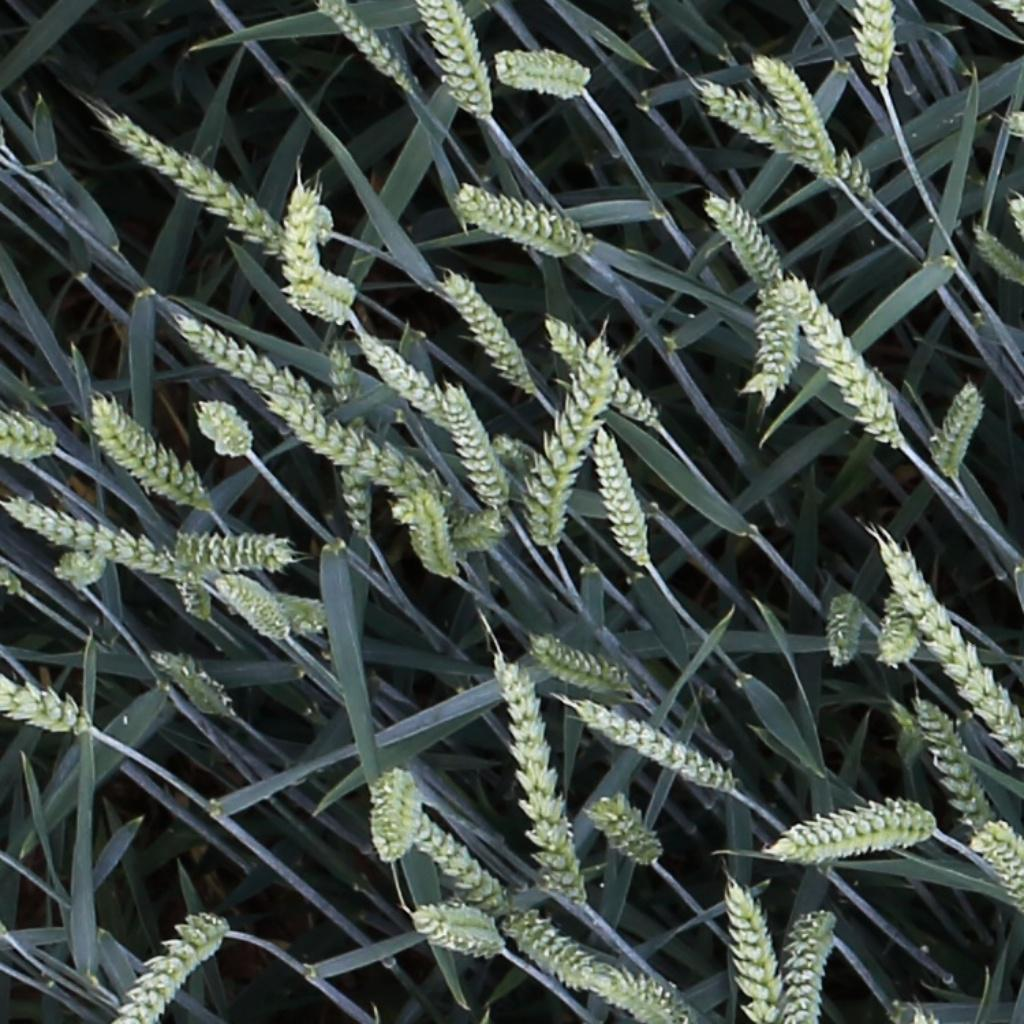0-0: (878, 526, 1024, 782), (99, 116, 293, 256), (268, 390, 450, 536), (491, 648, 591, 904), (690, 79, 881, 201), (779, 277, 902, 449), (520, 333, 614, 549), (6, 502, 196, 584), (174, 317, 334, 413), (576, 704, 733, 791), (86, 397, 206, 510), (109, 913, 231, 1024), (539, 311, 655, 421), (439, 263, 535, 395), (771, 797, 937, 868), (910, 693, 991, 832), (752, 53, 835, 182), (453, 185, 590, 258), (417, 0, 496, 122), (405, 819, 506, 912), (350, 329, 447, 424), (723, 880, 786, 1024), (439, 379, 505, 512), (316, 0, 410, 90), (591, 427, 648, 567), (703, 191, 782, 289), (502, 916, 600, 987), (577, 964, 685, 1024), (785, 905, 836, 1022), (927, 383, 986, 484), (746, 278, 789, 409), (148, 651, 228, 720), (174, 530, 294, 576), (529, 638, 628, 692), (493, 49, 590, 104), (587, 797, 659, 869), (277, 262, 355, 324), (0, 676, 82, 734), (285, 186, 334, 282), (975, 818, 1023, 915), (215, 576, 286, 641), (410, 909, 500, 960), (371, 772, 420, 864), (408, 487, 454, 584), (876, 576, 921, 670), (854, 0, 899, 86), (967, 219, 1022, 288), (170, 542, 211, 630), (193, 397, 251, 458), (337, 460, 370, 547), (0, 416, 56, 467), (449, 510, 506, 559), (826, 591, 856, 673), (54, 548, 105, 595), (326, 337, 352, 417)
